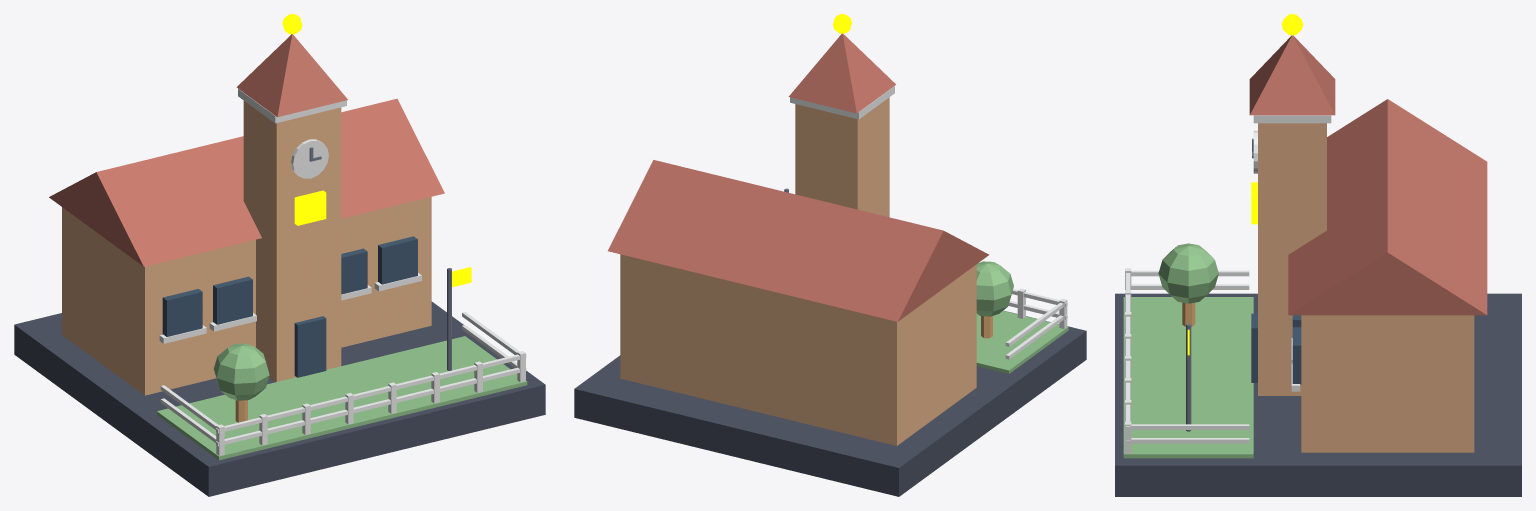
File: school.glb
3 views of the same model, side by side, from view 1: azimuth 30°, elevation 25°; view 2: azimuth 150°, elevation 25°; view 3: azimuth 270°, elevation 25° (orthographic). The views are drawn at different scales.
Parts seen in each view (by area): view 1: Classrooms, plinth, GableRoof, BellTower, Yard, TowerSpire, TreeCrown, Door, FenceRail_0.155, FenceRail_0.12, Window_-0.3, Window_0.3 (+5 smaller); view 2: Classrooms, GableRoof, plinth, BellTower, TowerSpire, Yard, TreeCrown, TowerCornice; view 3: GableRoof, plinth, Classrooms, Yard, BellTower, TowerSpire, TreeCrown, FenceRailE_0.12, FenceRailE_0.155, TowerCornice, FenceRail_0.155, Flagpole (+2 smaller).
Boxes of the visible parts, box(x1,y1,x2,y2) form: Classrooms: box(62, 197, 431, 395); plinth: box(14, 301, 545, 496); GableRoof: box(49, 98, 444, 266); BellTower: box(243, 101, 341, 382); Yard: box(157, 336, 527, 460); TowerSpire: box(236, 34, 347, 117); TreeCrown: box(214, 343, 269, 400); Door: box(294, 316, 326, 377); FenceRail_0.155: box(216, 354, 526, 433); FenceRail_0.12: box(216, 367, 526, 446); Window_-0.3: box(162, 289, 202, 336); Window_0.3: box(378, 236, 417, 284); Classrooms: box(620, 254, 976, 445); GableRoof: box(608, 160, 989, 321); plinth: box(574, 310, 1086, 496); BellTower: box(795, 97, 889, 217); TowerSpire: box(788, 33, 895, 113); Yard: box(976, 310, 1068, 373); TreeCrown: box(976, 261, 1013, 316); TowerCornice: box(790, 86, 894, 119); GableRoof: box(1288, 99, 1487, 315); plinth: box(1115, 293, 1521, 496); Classrooms: box(1301, 315, 1474, 452); Yard: box(1123, 297, 1253, 458); BellTower: box(1258, 123, 1326, 395); TowerSpire: box(1249, 35, 1335, 115); TreeCrown: box(1158, 243, 1218, 303); FenceRailE_0.12: box(1131, 438, 1249, 443); FenceRailE_0.155: box(1131, 424, 1249, 429); TowerCornice: box(1253, 115, 1331, 123); FenceRail_0.155: box(1126, 273, 1130, 430); Flagpole: box(1186, 323, 1191, 431).
Size of the model in its own units: 0.94 by 1.01 by 0.94.
